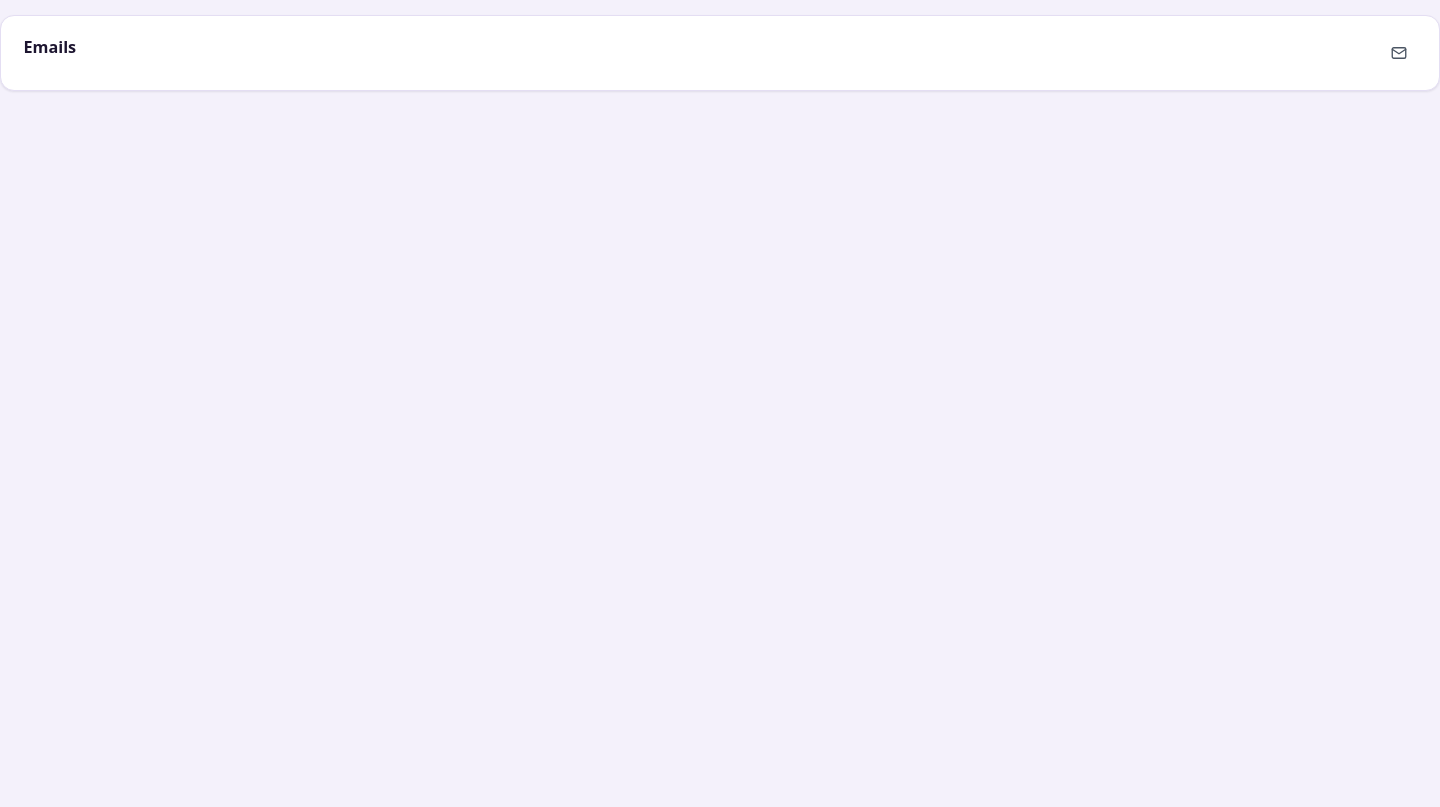
it: candidate emails › fills a template's fields with the candidate's values, salary too (asked for then), in the subject and the message
Click the button named "Write email": (1398, 53) 1380,35 -> 1416,71
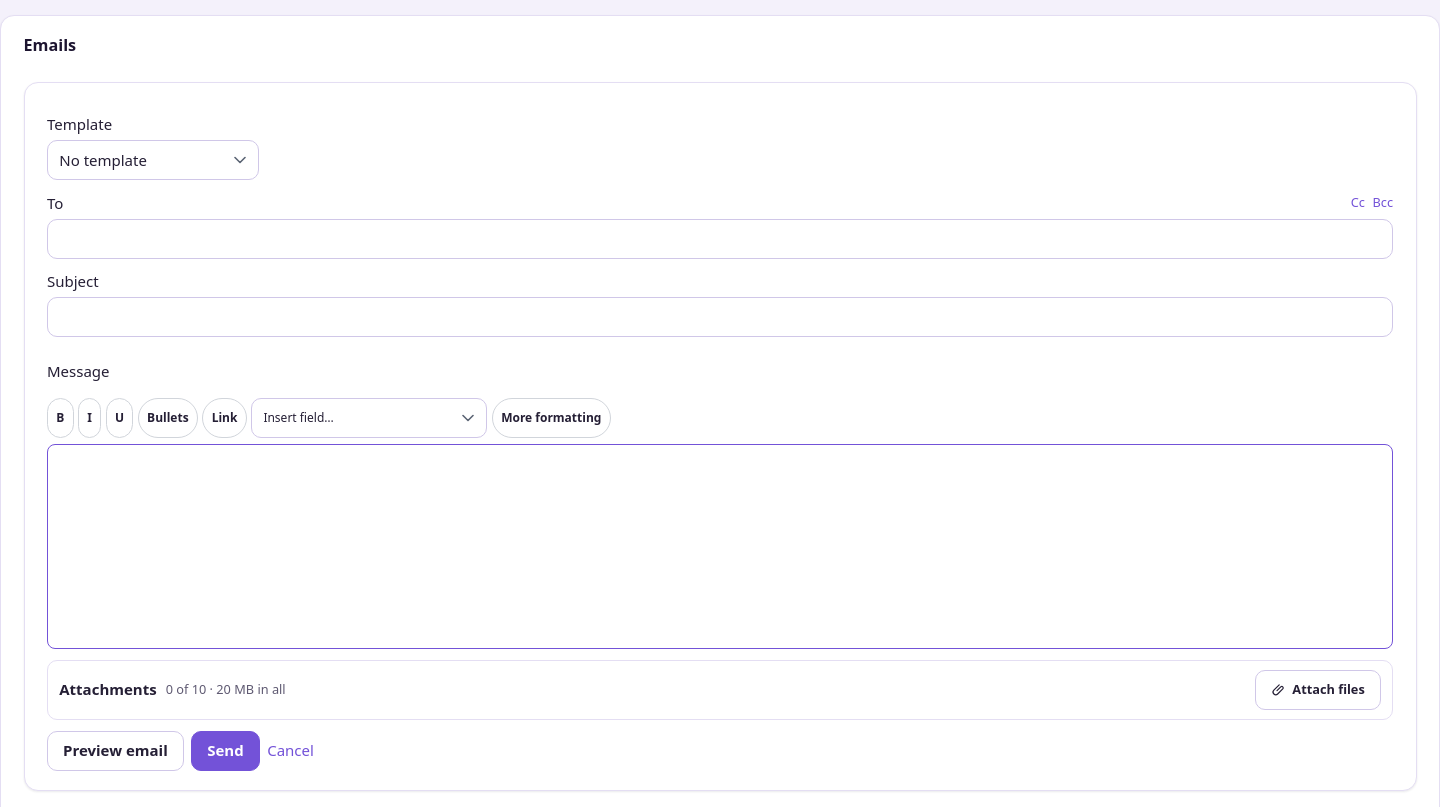
Select "Interview invitation" in the dropdown labelled "Template": (153, 160) 47,140 -> 259,180
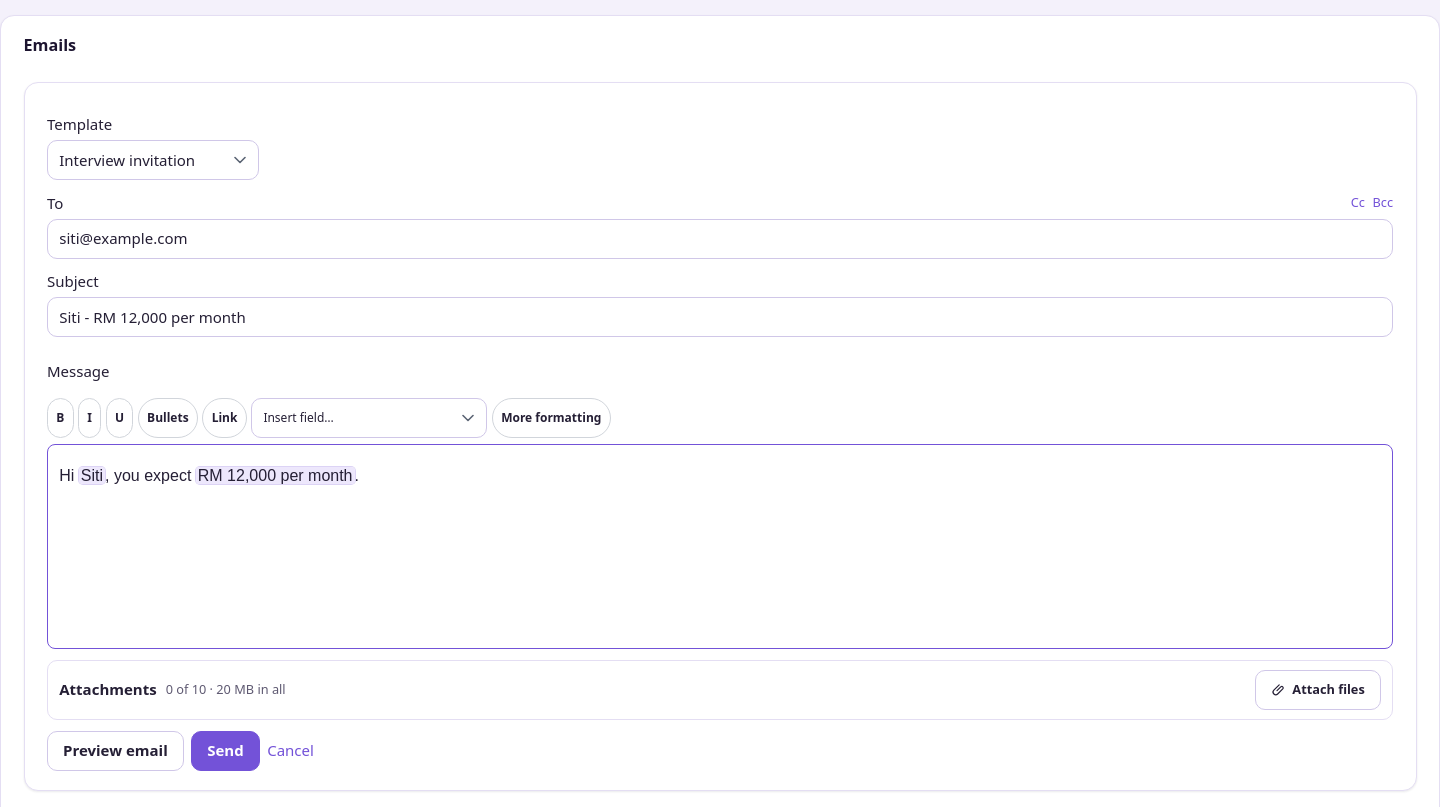
Expected: the field labelled "Subject" holds "Siti - RM 12,000 per month", 47,297 -> 1393,337
